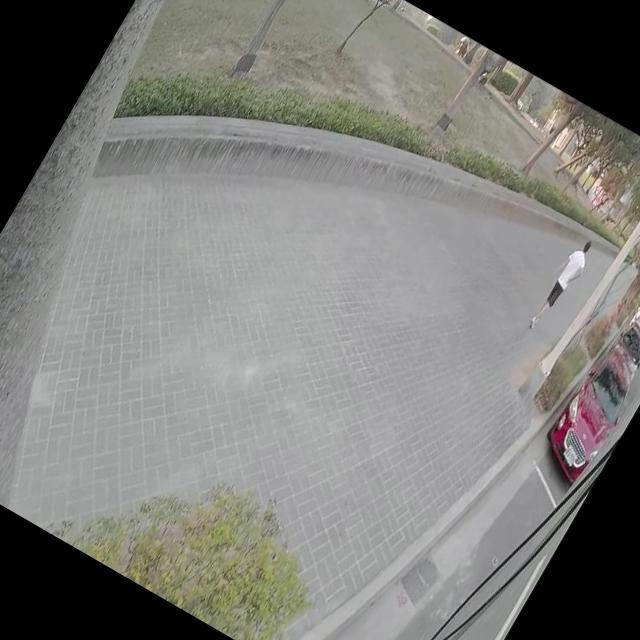person: (525, 233, 597, 336)
